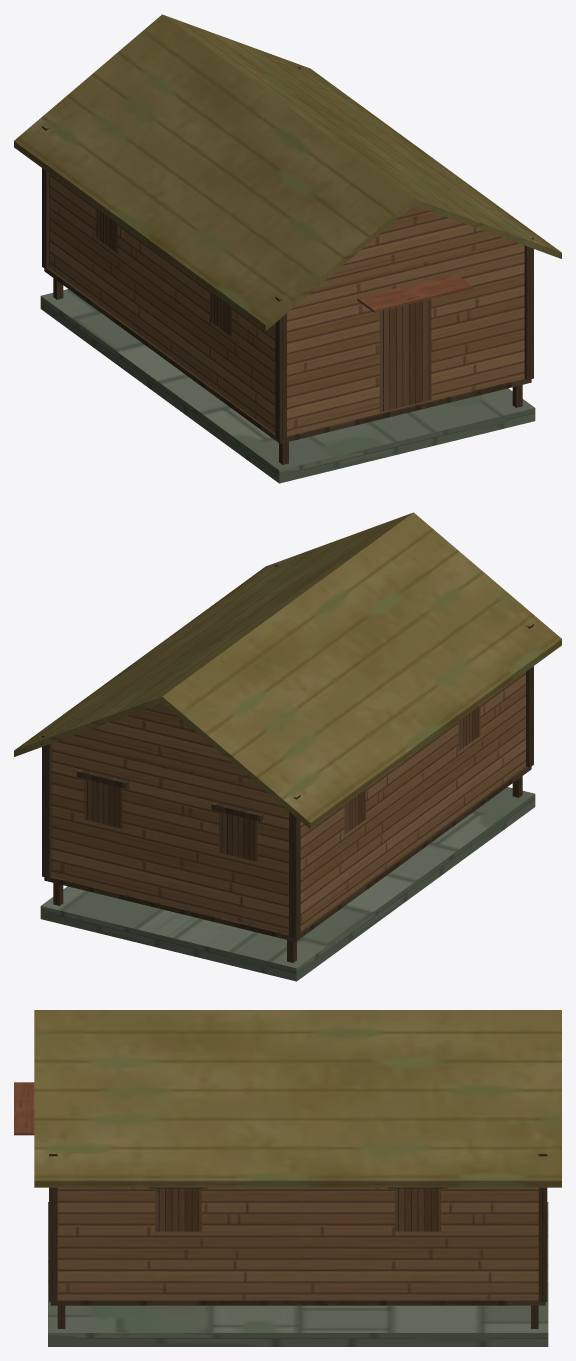
File: ae_jungle_wood_large_hall_lod1.glb
3 renders of one model, top to bottom at view 1: azimuth 30°, elevation 25°; view 2: azimuth 150°, elevation 25°; view 3: azimuth 270°, elevation 25°, orthographic. The views are drawn at different scales.
Visible parts, largest first — view 1: ae_jungle_wood_large_hall_lod1; view 2: ae_jungle_wood_large_hall_lod1; view 3: ae_jungle_wood_large_hall_lod1.
Part boxes in pixels (left/top/right/bottom): ae_jungle_wood_large_hall_lod1: left=14, top=14, right=561, bottom=483; ae_jungle_wood_large_hall_lod1: left=14, top=512, right=561, bottom=981; ae_jungle_wood_large_hall_lod1: left=14, top=1010, right=561, bottom=1346.
Bounding box in the file's own units: 6.6 × 5.5 × 10.07.
1 material, 1 textured.
